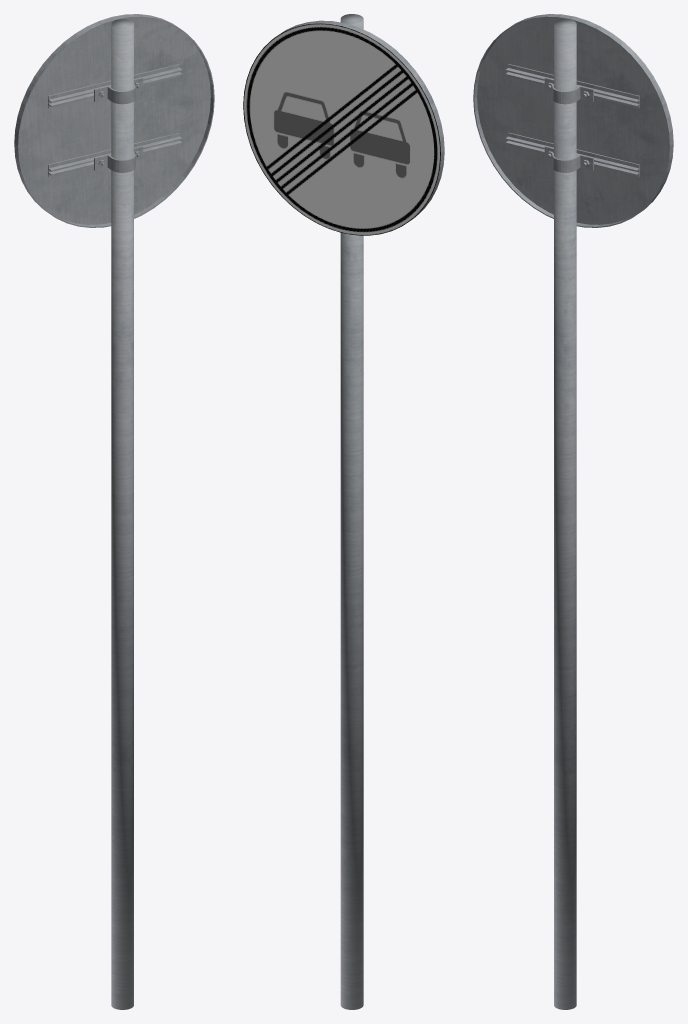
File: No_overtaking_v2.fbx
3 renders of one model, left to right at view 1: azimuth 30°, elevation 25°; view 2: azimuth 150°, elevation 25°; view 3: azimuth 330°, elevation 25°, orthographic.
Visible parts, largest first — view 1: No overtaking v2; view 2: No overtaking v2; view 3: No overtaking v2.
Part boxes in pixels (left/top/right/bottom): No overtaking v2: left=14, top=14, right=214, bottom=1009; No overtaking v2: left=243, top=14, right=444, bottom=1009; No overtaking v2: left=473, top=14, right=673, bottom=1009.
Bounding box in the file's own units: 0.0876 × 0.6 × 2.86.
